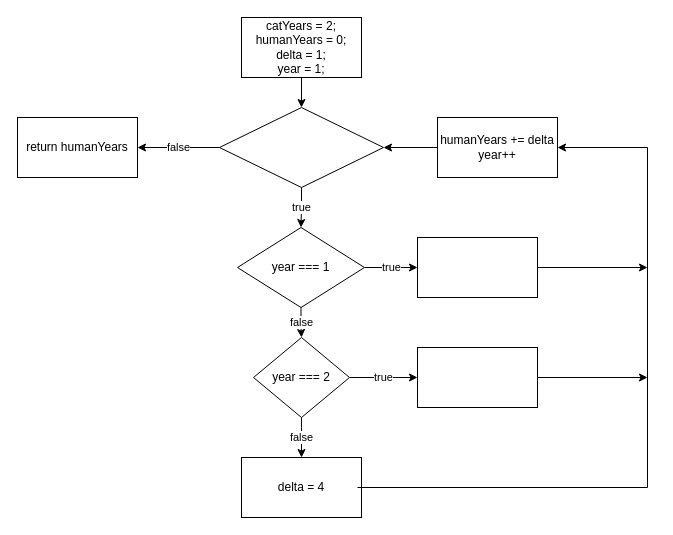
The diagram is 673 pixels wide and 535 high, and some of its shapes have lost their labels. The centre of each missing label's shape, as x and y in pixels:
"delta = 15" belongs at [477,267].
"delta = 9" belongs at [477,377].
"year <= catYears" belongs at [301,147].
